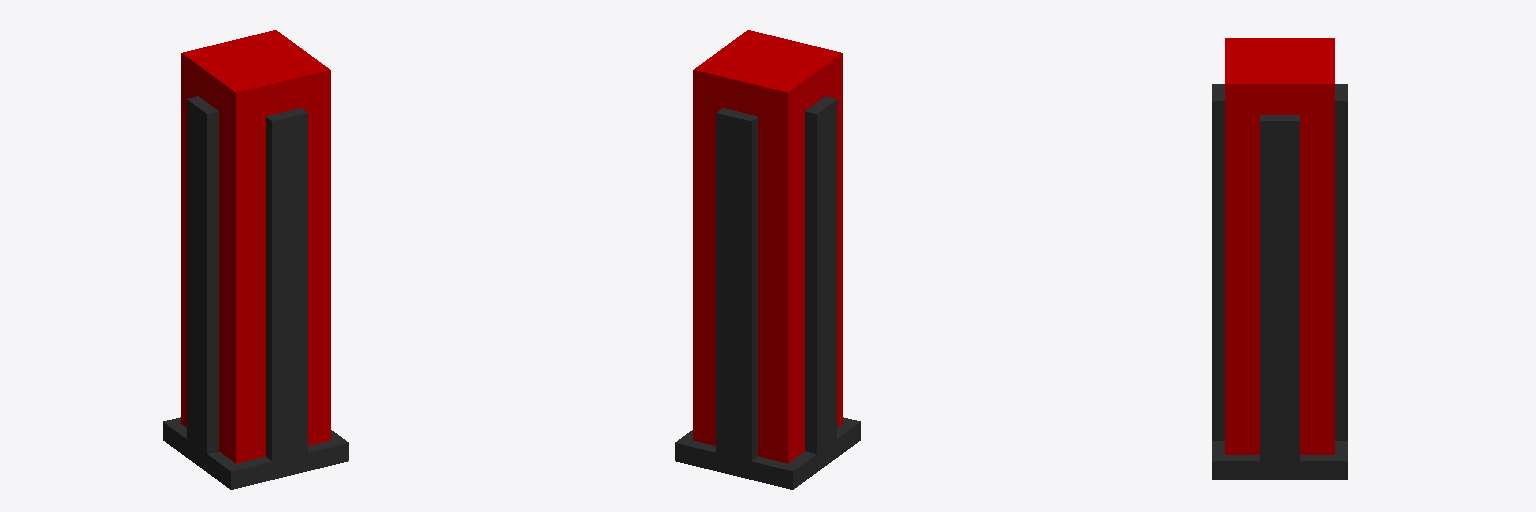
Rendered from Piece3.obj.
The picture shows the model from 3 angles: view 1: azimuth 30°, elevation 25°; view 2: azimuth 150°, elevation 25°; view 3: azimuth 270°, elevation 25°; orthographic projection.
Visible parts, largest first — view 1: Piece3; view 2: Piece3; view 3: Piece3.
Part boxes in pixels (x1,y1,x2,y2): Piece3: (163,30,348,489); Piece3: (675,30,860,489); Piece3: (1212,38,1347,479).
Bounding box in the file's own units: 29.55 × 93.09 × 29.55.